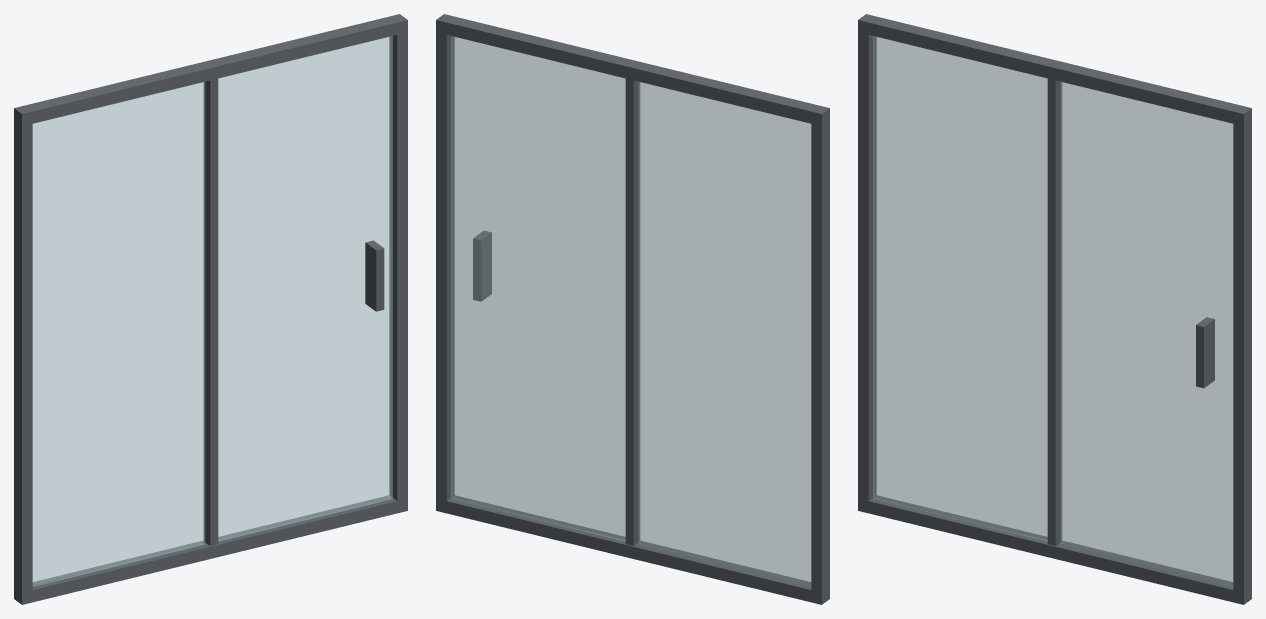
Rendered from mampara-negro-claro.glb.
3 views of the same model, side by side, from view 1: azimuth 30°, elevation 25°; view 2: azimuth 150°, elevation 25°; view 3: azimuth 330°, elevation 25° (orthographic).
Visible parts, largest first — view 1: glass-0.4, glass0.4, post-0.8, post0.8, rail1.975, rail0.025, center, handle; view 2: glass0.4, glass-0.4, post-0.8, post0.8, rail1.975, rail0.025, center, handle; view 3: glass-0.4, glass0.4, post0.8, post-0.8, rail1.975, rail0.025, center, handle.
Part boxes in pixels (x1,y1,x2,y2): glass-0.4: (32, 82, 205, 586); glass0.4: (218, 36, 392, 541); post-0.8: (14, 105, 32, 604); post0.8: (389, 14, 407, 513); rail1.975: (25, 15, 401, 124); rail0.025: (27, 495, 402, 602); center: (204, 61, 218, 545); handle: (365, 240, 384, 311); glass0.4: (451, 36, 625, 541); glass-0.4: (638, 82, 811, 586); post-0.8: (811, 105, 829, 604); post0.8: (436, 14, 454, 512); rail1.975: (441, 16, 820, 124); rail0.025: (441, 495, 816, 603); center: (625, 61, 639, 545); handle: (473, 231, 491, 301); glass-0.4: (873, 36, 1047, 541); glass0.4: (1060, 82, 1233, 586); post0.8: (1233, 105, 1251, 604); post-0.8: (858, 14, 876, 513); rail1.975: (863, 15, 1240, 124); rail0.025: (863, 495, 1238, 603); center: (1047, 60, 1061, 545); handle: (1196, 317, 1214, 388).
Size of the model in its own units: 1.64 by 2 by 0.12.
